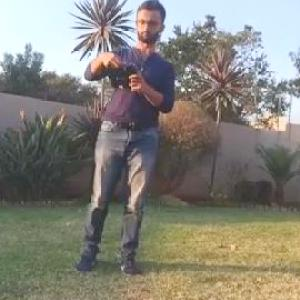follow: (69, 0, 181, 286)
